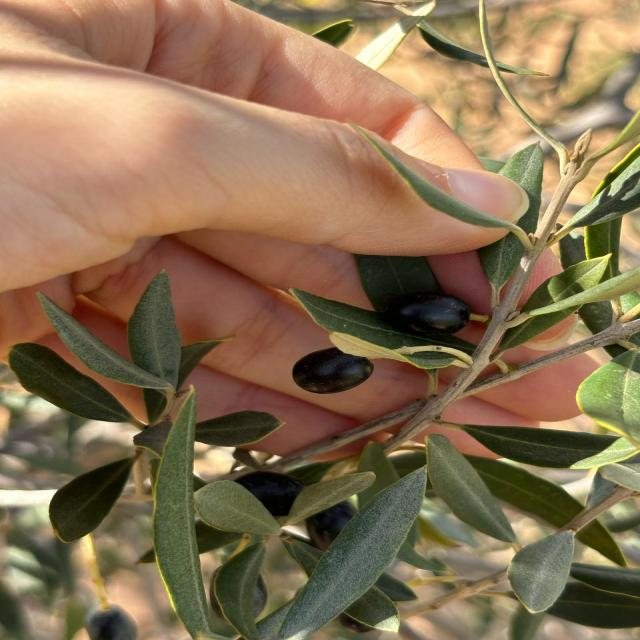Healthy: (277, 470, 425, 640), (153, 391, 209, 638), (40, 294, 173, 396), (426, 434, 515, 542), (10, 344, 133, 422), (49, 458, 134, 542), (507, 531, 575, 612), (193, 480, 280, 534), (292, 348, 373, 394), (386, 294, 469, 335)
